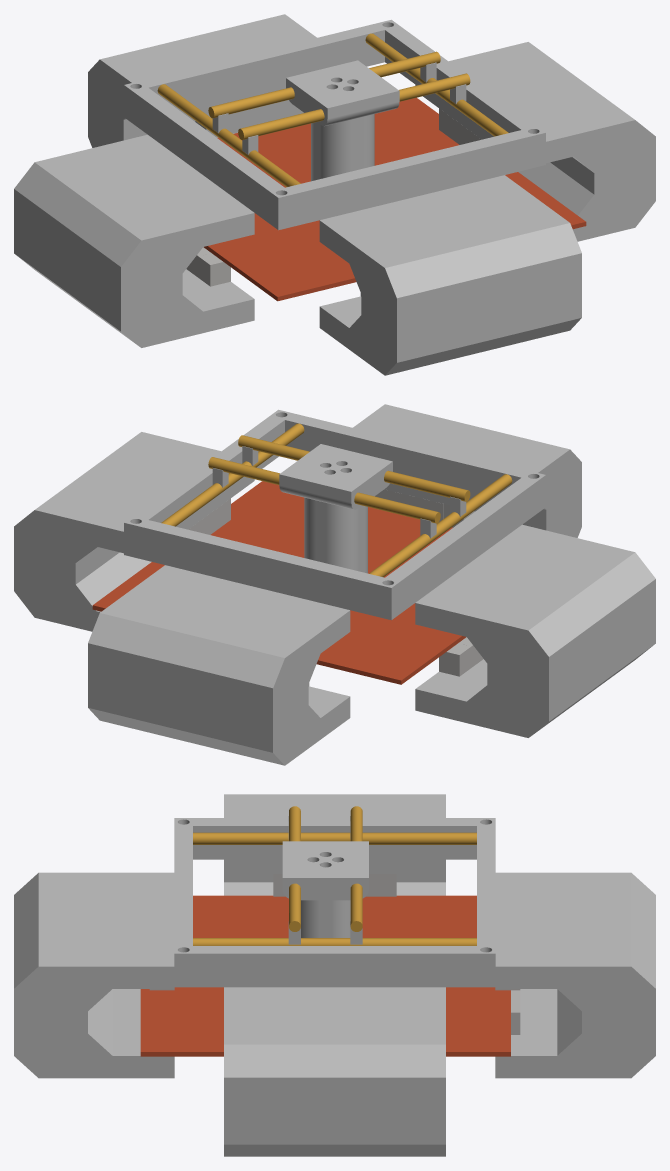
File: mmss.glb
3 renders of one model, top to bottom at view 1: azimuth 30°, elevation 25°; view 2: azimuth 150°, elevation 25°; view 3: azimuth 270°, elevation 25°, orthographic. The views are drawn at different scales.
Visible parts, largest first — view 1: Solid1 (×5); view 2: Solid1 (×5); view 3: Solid1 (×5).
Part boxes in pixels (x1,y1,x2,y2): Solid1 (×5): (14, 14, 655, 375); Solid1 (×5): (14, 404, 655, 765); Solid1 (×5): (14, 794, 655, 1156).
Bounding box in the file's own units: 0.13 × 0.0388 × 0.13.
